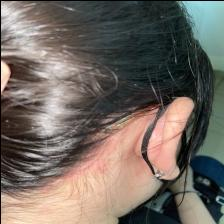Psoriasis vulgaris: (58, 133, 119, 182)
